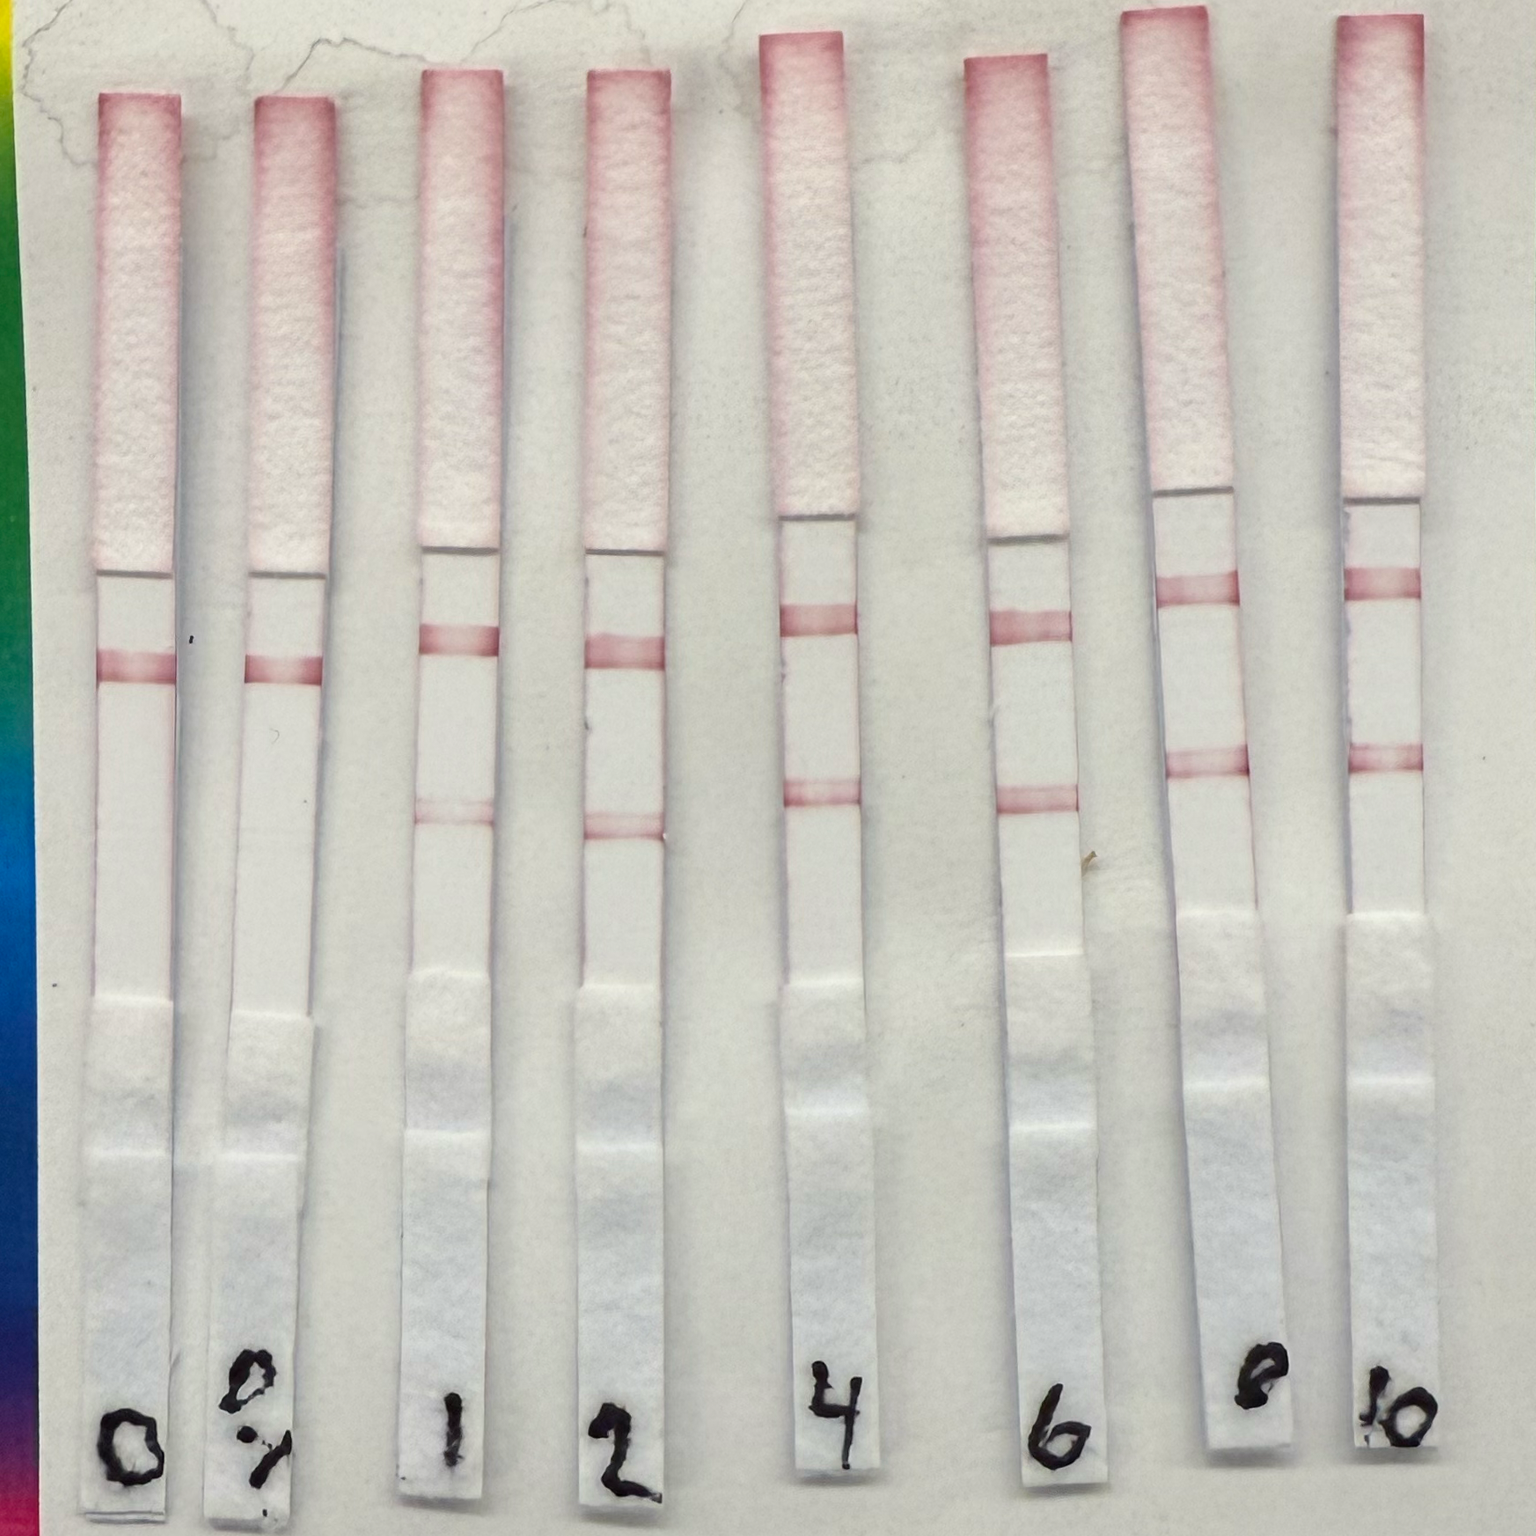Control: (1158, 572, 1238, 608), (990, 612, 1070, 646), (98, 651, 177, 684), (416, 626, 495, 658), (776, 601, 855, 633), (246, 658, 325, 689), (584, 637, 663, 668), (1345, 564, 1423, 595)
Test: (999, 782, 1073, 812), (1166, 745, 1242, 774), (416, 803, 491, 828), (241, 816, 315, 841), (97, 813, 172, 838), (589, 813, 664, 838), (785, 779, 859, 805), (1346, 745, 1419, 771)
